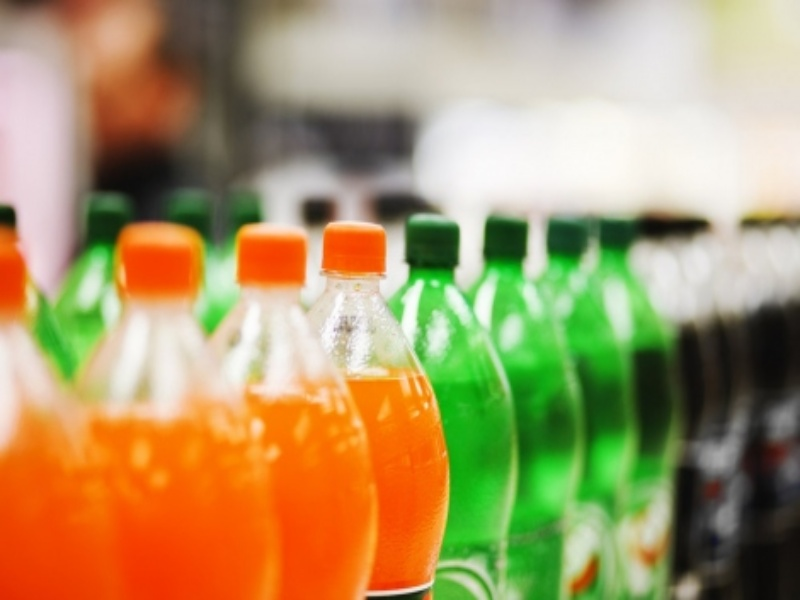Plastic bottle: (276, 197, 472, 574), (204, 222, 397, 582), (449, 197, 608, 585), (377, 207, 531, 578)
